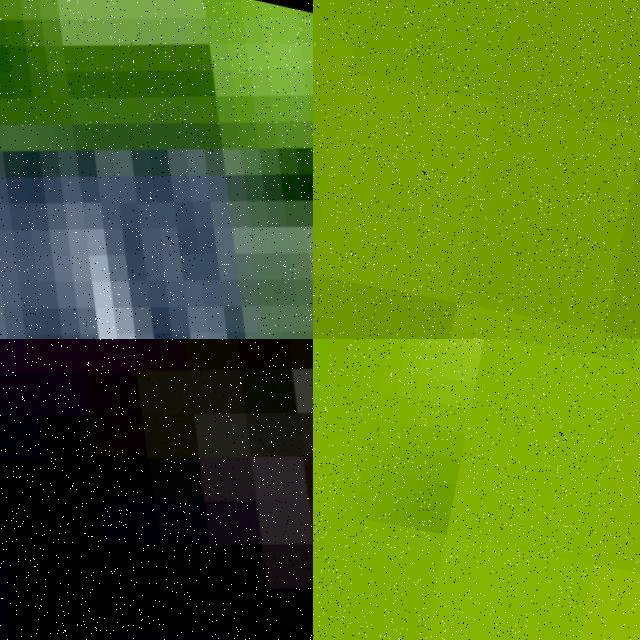drone: (0, 0, 313, 339), (0, 339, 313, 640)
